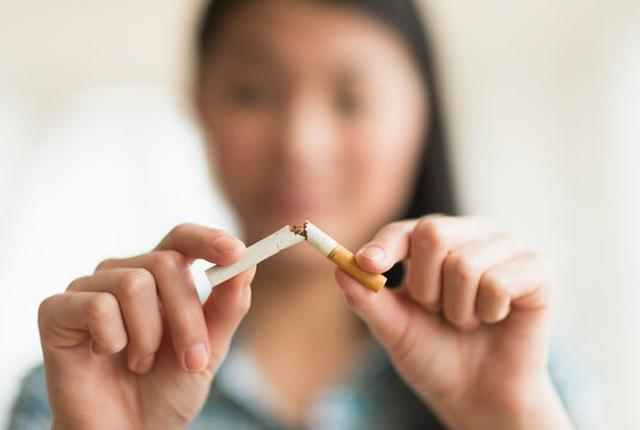Cigarette: (189, 222, 306, 305), (291, 219, 388, 293)
